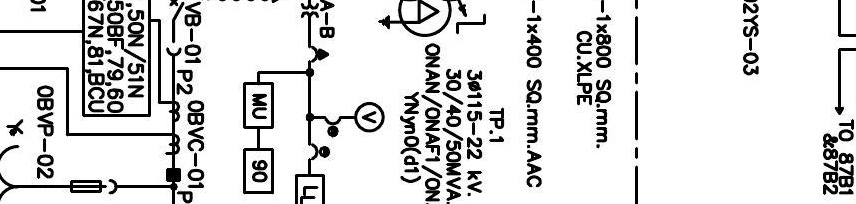MU: (242, 81, 275, 130)
v_m: (353, 101, 386, 134)
